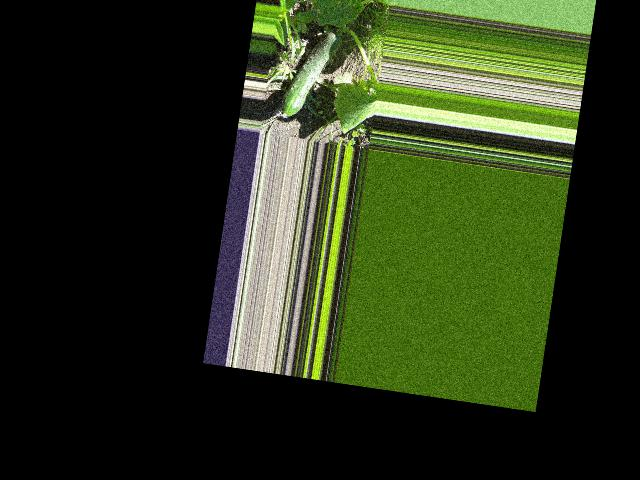cucumber: (279, 24, 343, 123)
